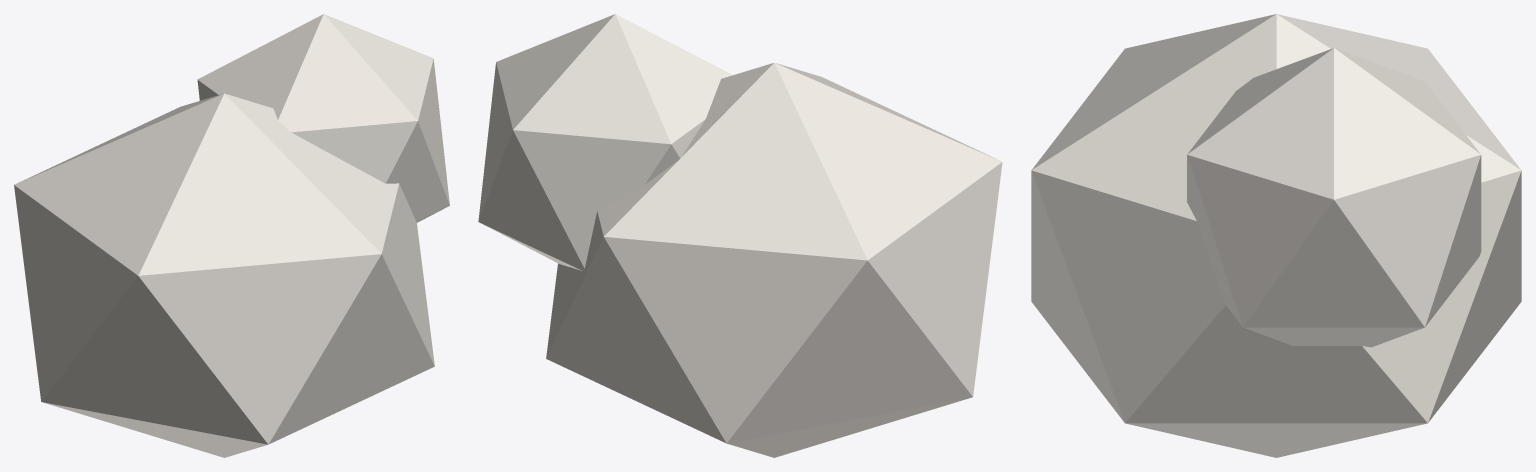
File: fx_smoke_puff.fbx
The picture shows the model from 3 angles, left to right: view 1: azimuth 30°, elevation 25°; view 2: azimuth 150°, elevation 25°; view 3: azimuth 270°, elevation 25°; orthographic projection. The views are drawn at different scales.
Visible parts, largest first — view 1: fx_smoke_puff; view 2: fx_smoke_puff; view 3: fx_smoke_puff.
Boxes of the visible parts, x1,y1,x2,y2 form: fx_smoke_puff: [14, 14, 449, 457]; fx_smoke_puff: [478, 14, 1002, 457]; fx_smoke_puff: [1031, 14, 1521, 457].
Size of the model in its own units: 0.1016 by 0.0925 by 0.0851.
